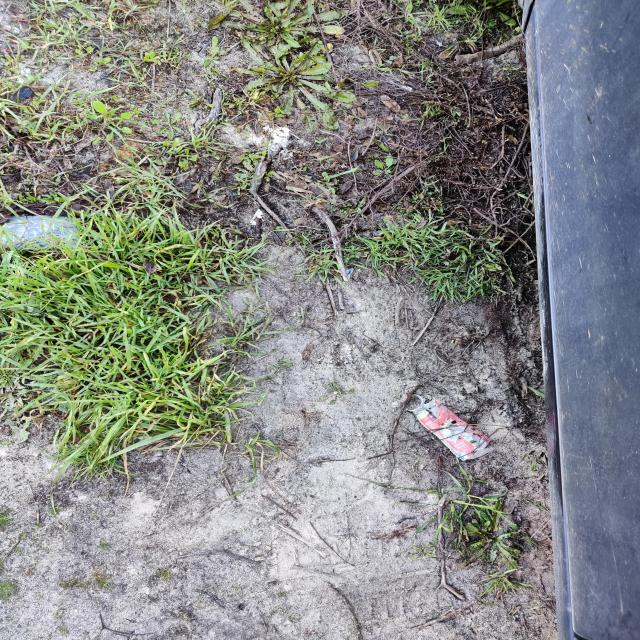litter: (1, 214, 313, 478), (405, 395, 493, 462)
